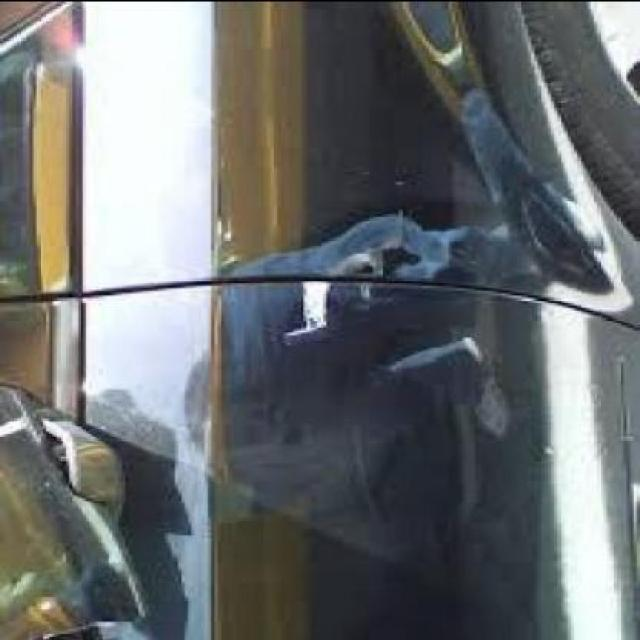damage: (202, 229, 448, 349)
